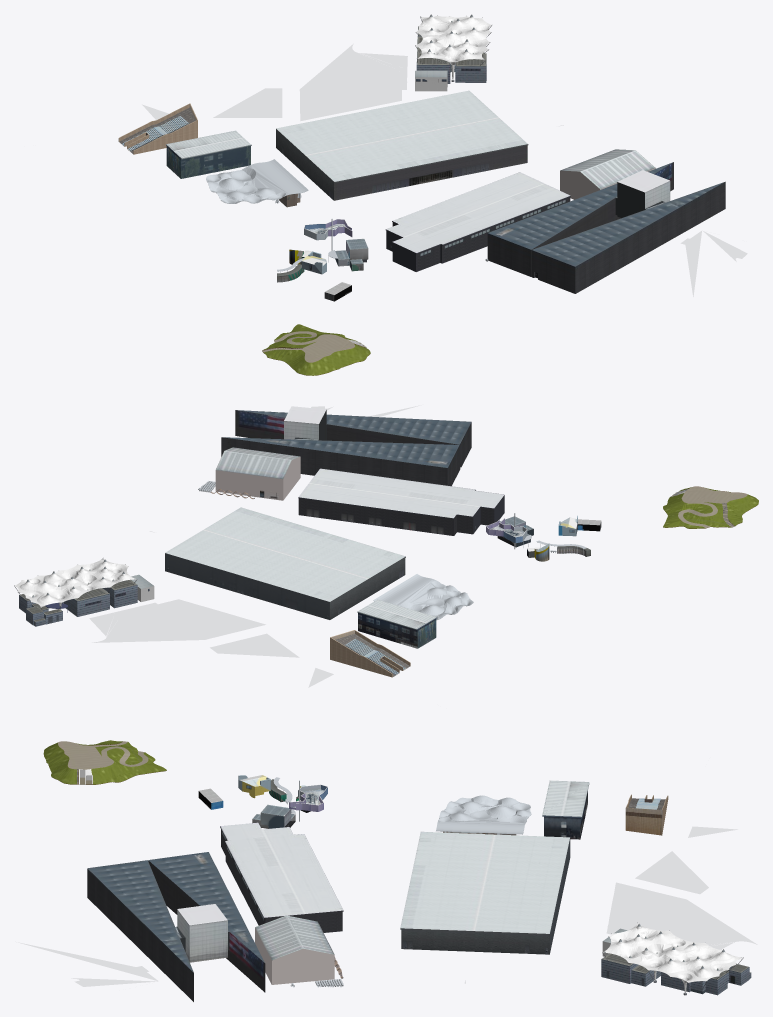
The picture shows the model from 3 angles, top to bottom: view 1: azimuth 30°, elevation 25°; view 2: azimuth 150°, elevation 25°; view 3: azimuth 270°, elevation 25°; orthographic projection. The views are drawn at different scales.
Visible parts, largest first — view 1: Buildings_建物パビリオン, Facilities_都市設備; view 2: Buildings_建物パビリオン, Facilities_都市設備; view 3: Buildings_建物パビリオン, Facilities_都市設備.
Part boxes in pixels (x1=…): Buildings_建物パビリオン: x1=118, y1=27, x2=747, y2=375; Facilities_都市設備: x1=206, y1=14, x2=491, y2=272; Buildings_建物パビリオン: x1=19, y1=405, x2=758, y2=687; Facilities_都市設備: x1=14, y1=481, x2=586, y2=620; Buildings_建物パビリオン: x1=15, y1=740, x2=757, y2=1001; Facilities_都市設備: x1=273, y1=777, x2=743, y2=995.
Size of the model in its own units: 202 by 18.96 by 244.
Materials: 21 (19 with a texture image).
